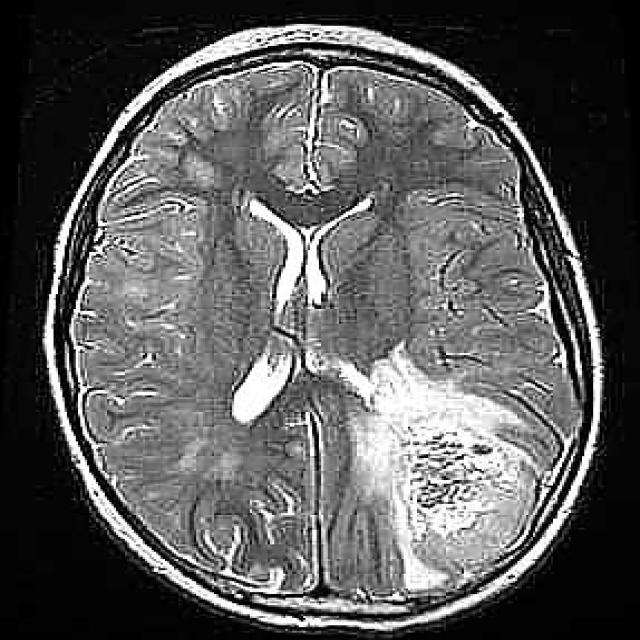brain tumor: (348, 344, 551, 590)
